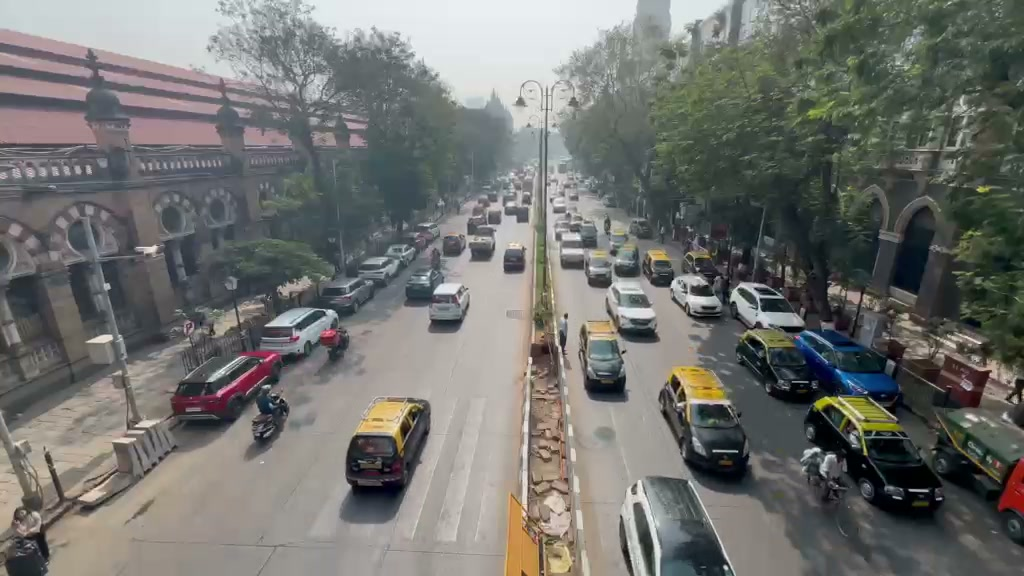car: (801, 394, 946, 516), (618, 476, 735, 576), (657, 363, 752, 478), (794, 329, 904, 410), (929, 405, 1024, 496), (345, 396, 432, 494), (169, 350, 283, 421), (735, 325, 818, 402), (258, 306, 347, 360), (730, 282, 806, 331), (578, 319, 627, 391), (603, 281, 658, 336), (996, 457, 1024, 544), (316, 276, 376, 316), (669, 274, 724, 317), (428, 281, 471, 329), (405, 267, 446, 302), (357, 255, 403, 286), (641, 250, 676, 288), (585, 252, 614, 287), (612, 243, 641, 277), (560, 240, 586, 270), (385, 243, 417, 264), (442, 234, 466, 257)
motorcycle: (801, 450, 845, 504), (251, 387, 290, 443), (251, 407, 288, 443)
pedestrian: (0, 508, 51, 575)
truck: (802, 394, 946, 515), (930, 405, 1024, 499), (344, 395, 432, 494)
